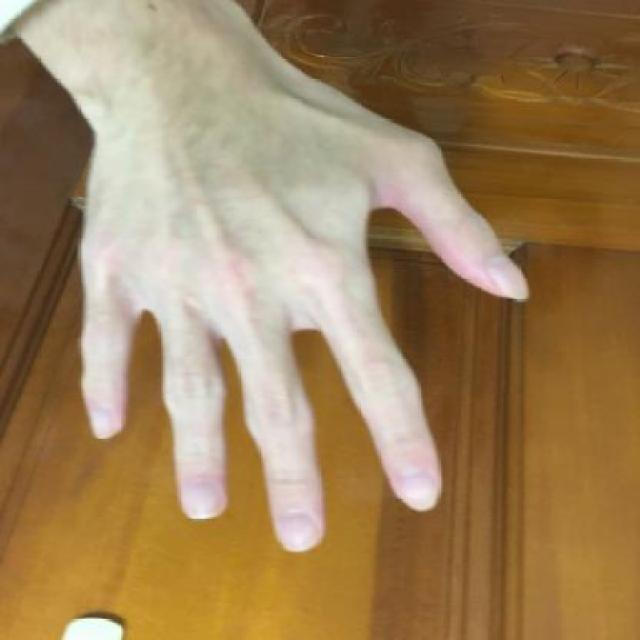bare_hand: (53, 38, 550, 566)
